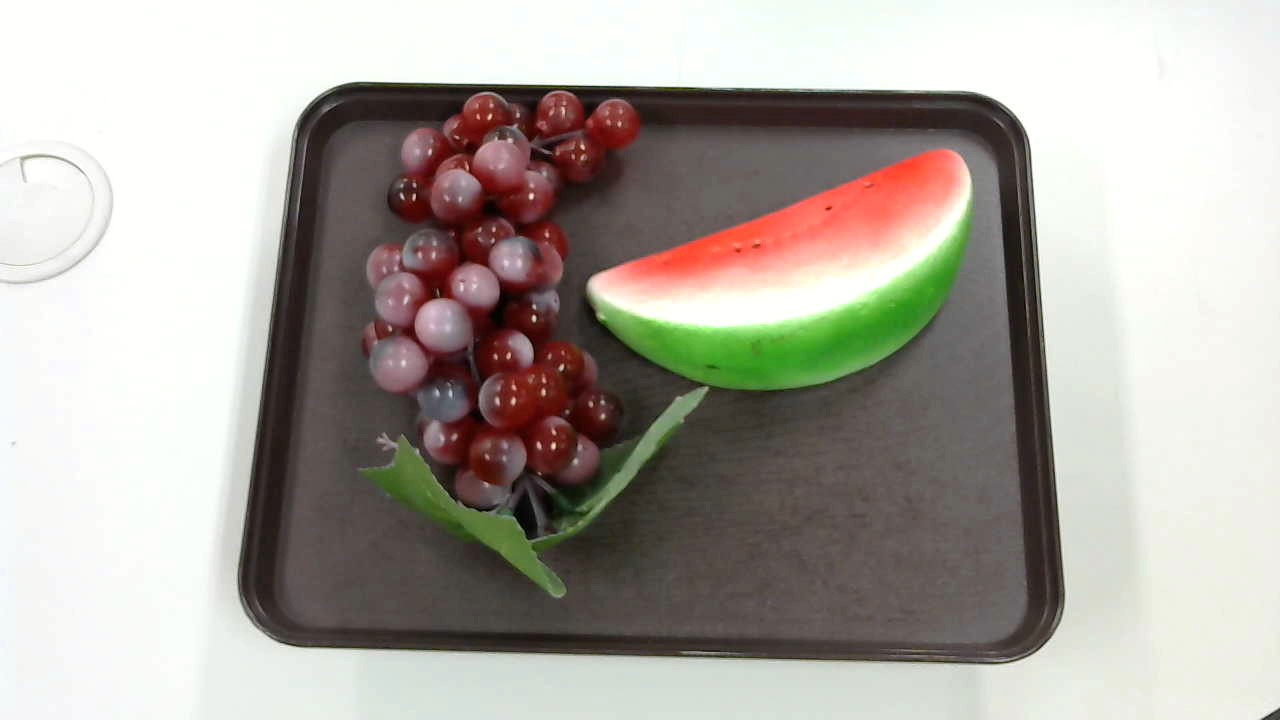grape: (357, 93, 707, 596)
water melon: (581, 147, 979, 391)
